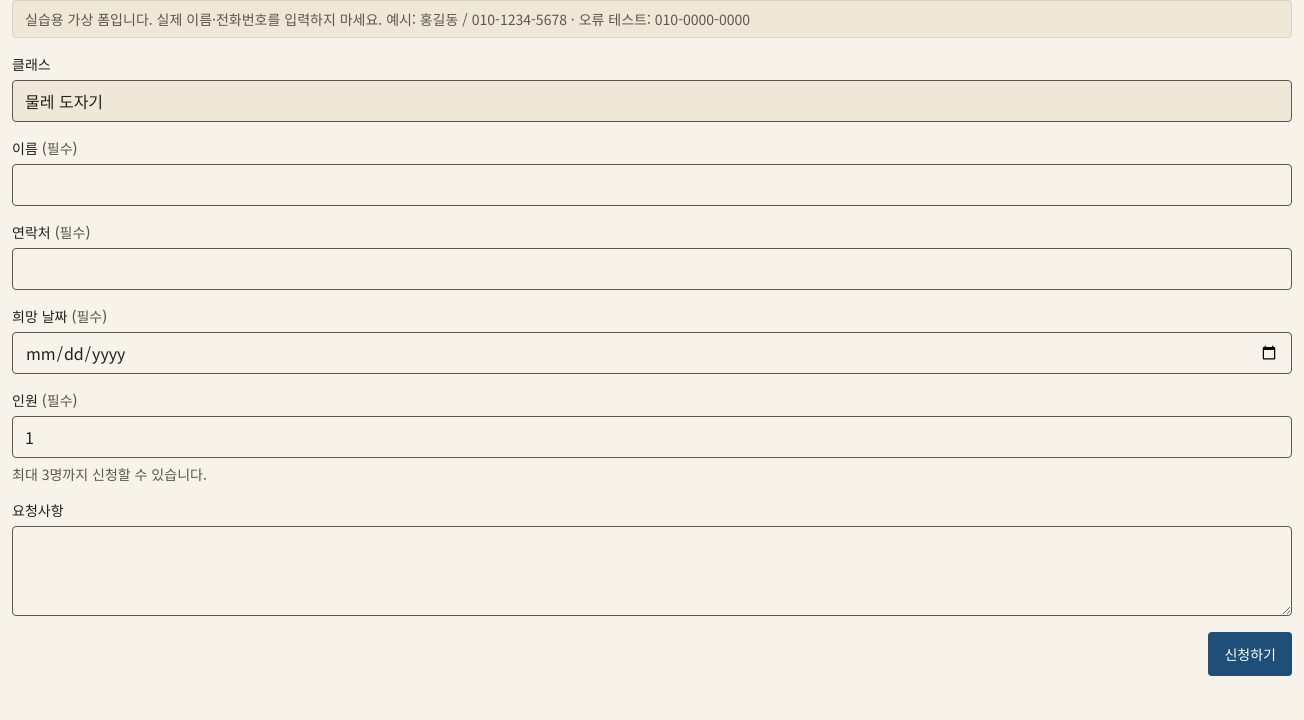
Test: ClassApplicationForm › 잔여석을 넘는 인원은 거부한다
The image size is (1304, 720).
Type "  홍길동 " into the field labelled "이름(필수)". click: (652, 185)
box: [12, 164, 1292, 206]
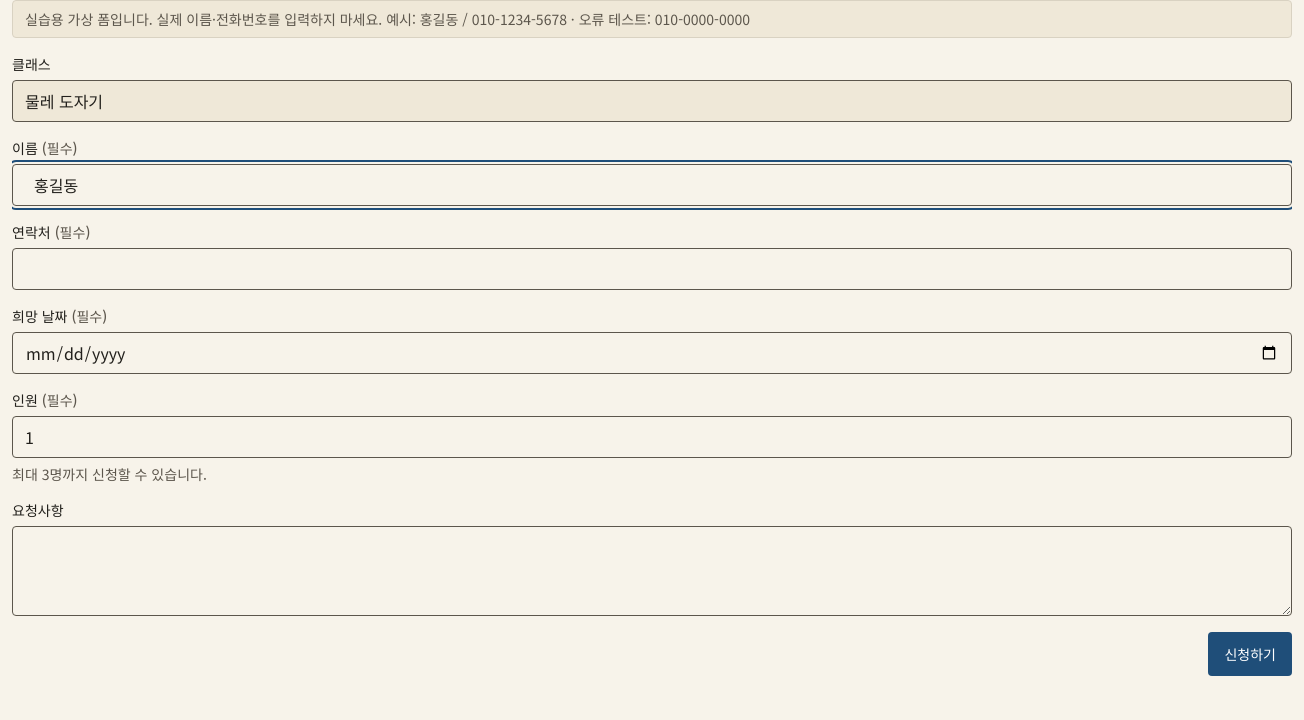
Type "010-1234-5678" into the field labelled "연락처(필수)". click: (652, 269)
box: [12, 248, 1292, 290]
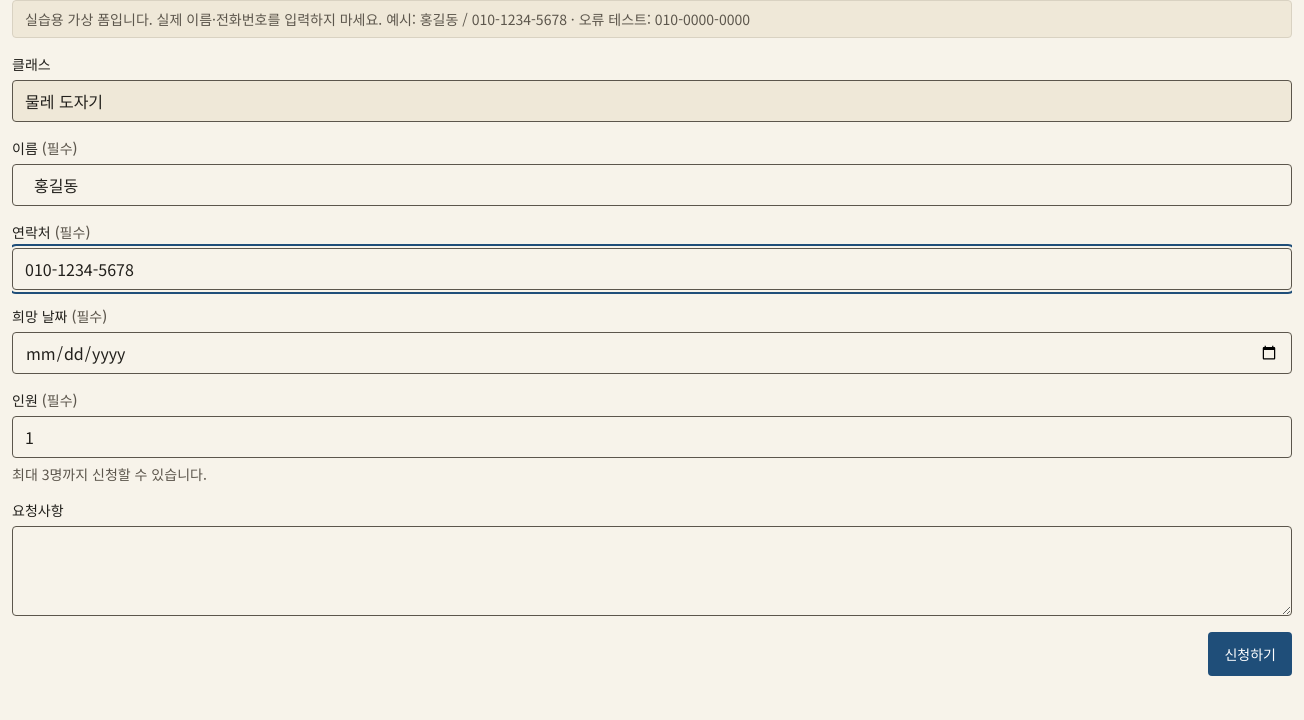
Type "2026-10-05" into the date field labelled "희망 날짜(필수)". click: (652, 353)
box: [12, 332, 1292, 374]
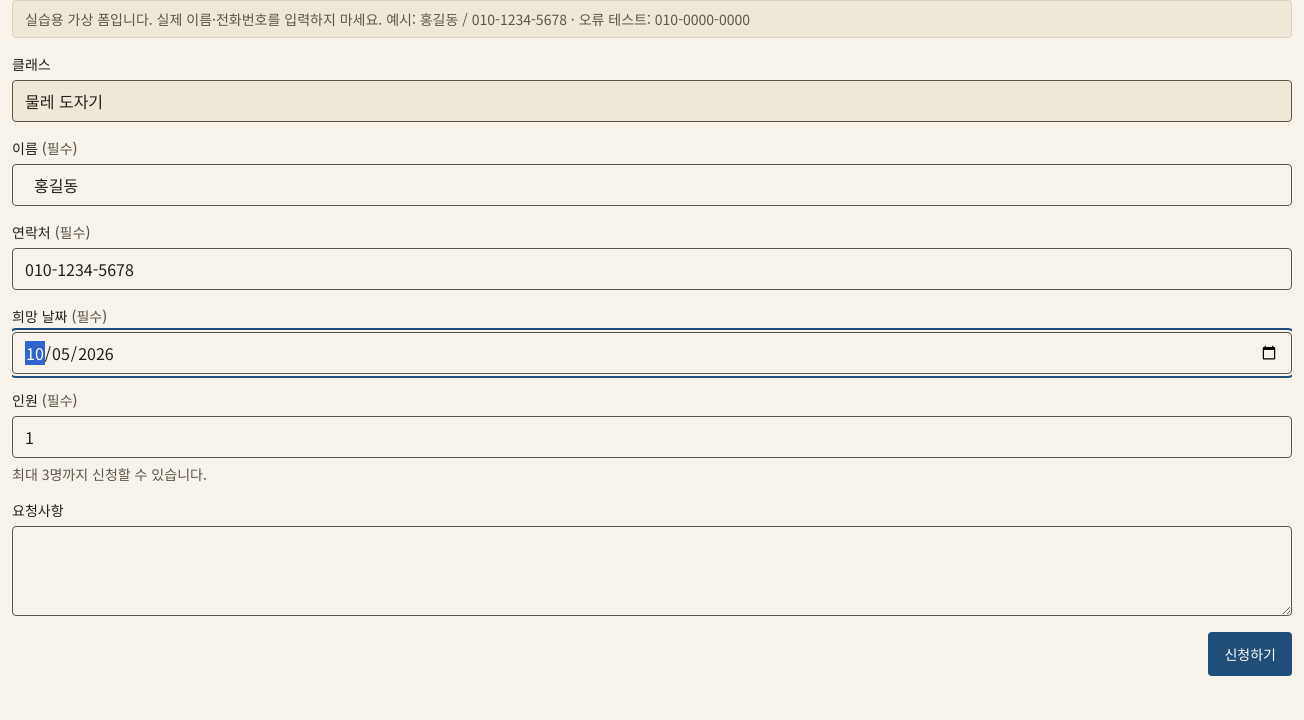
Replace the text in the number field labelled "인원(필수)" with "4". click: (652, 437)
box: [12, 416, 1292, 458]
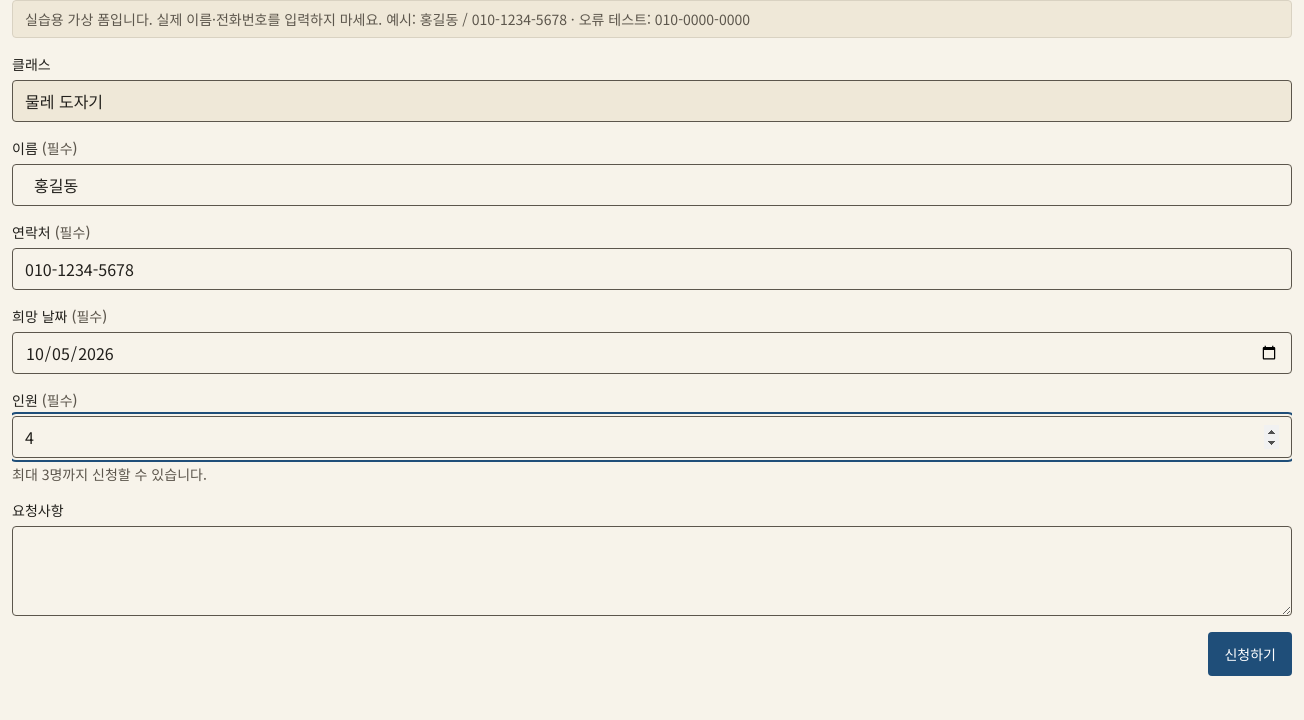
Click the button "신청하기". click: (1250, 654)
box: [1208, 632, 1292, 676]
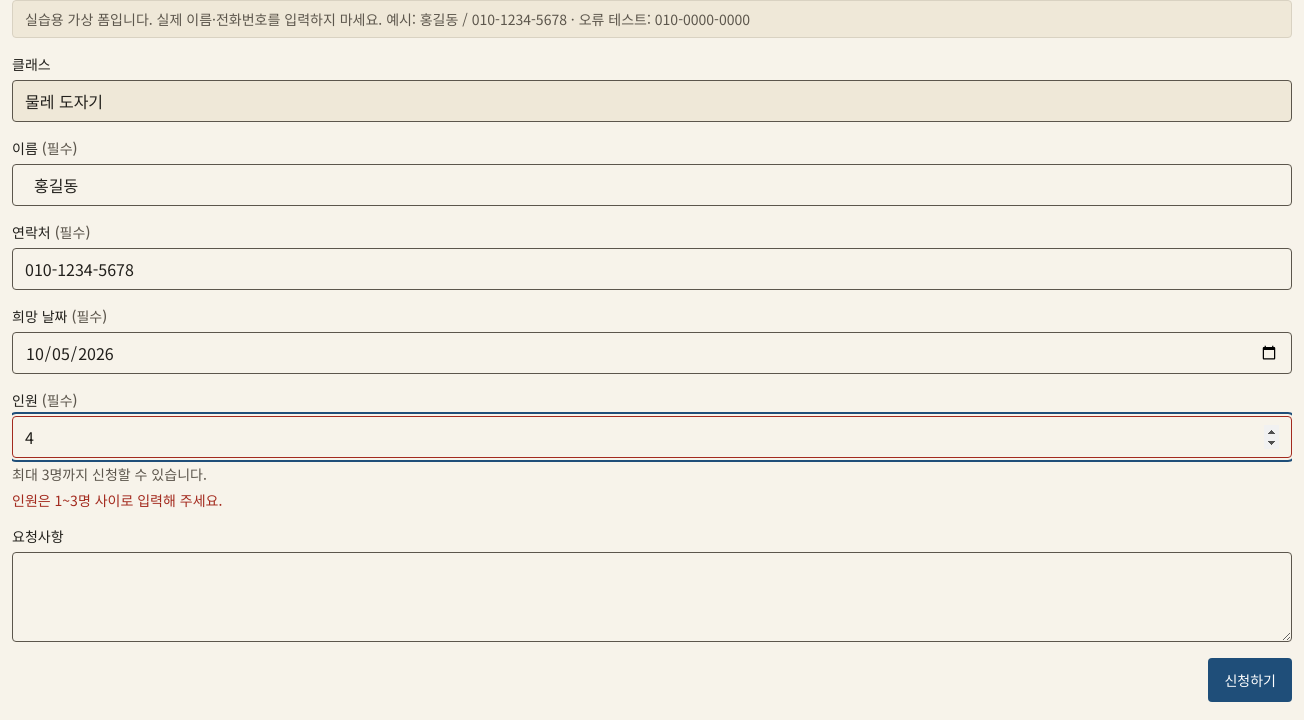
Expected: the text "인원은 1~3명 사이로 입력해 주세요." is shown, [12, 490, 222, 510]
